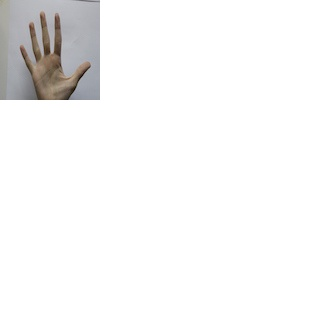paper: (14, 5, 93, 99)
